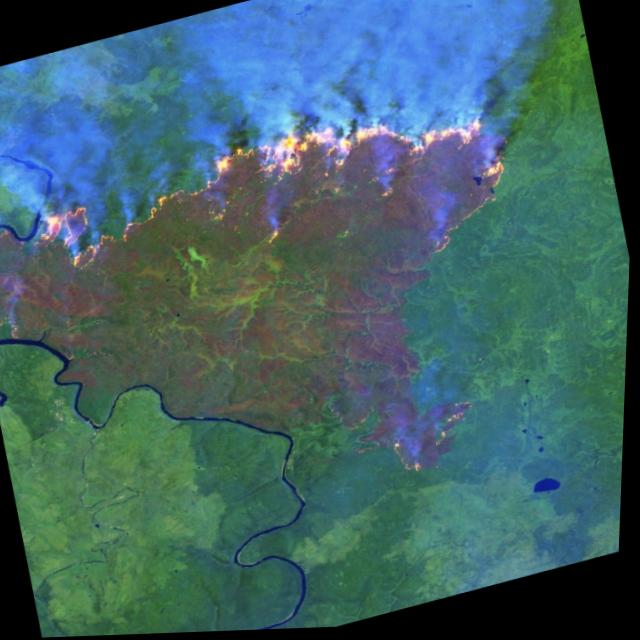fire: (0, 56, 536, 386)
